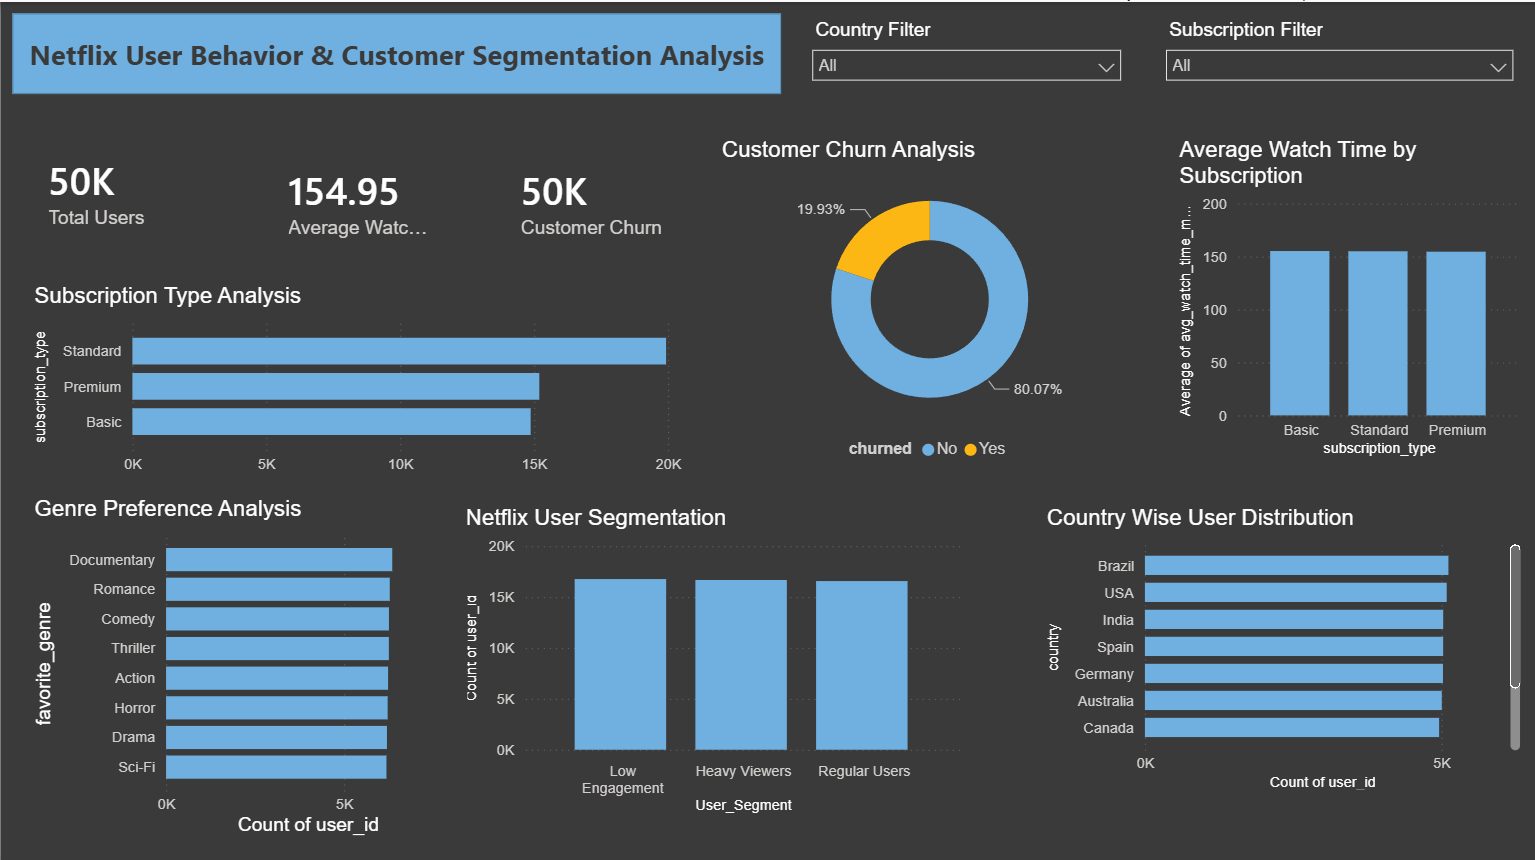

The dashboard page shown, as its layout file describes it:
{"tool":"powerbi","page":{"name":"Page 1","canvas":[1280,720],"ordinal":0},"visuals":[{"type":"cardVisual","fields":{"Data":["CountNonNull(Netflix dashboard final.user_id)"]},"box":[9.8,95.4,189.5,121.1],"z":0},{"type":"cardVisual","fields":{"Data":["Avg(Netflix dashboard final.avg_watch_time_minutes)"]},"box":[209.1,95.4,178.5,138.2],"z":1},{"type":"cardVisual","fields":{"Data":["CountNonNull(Netflix dashboard final.churned)"]},"box":[402.3,95.4,178.5,138.2],"z":2},{"type":"clusteredColumnChart","title":"Netflix User Segmentation","fields":{"Category":["Netflix dashboard final.User_Segment"],"Y":["CountNonNull(Netflix dashboard final.user_id)"]},"box":[381.5,418.2,421.9,261.7],"z":3},{"type":"donutChart","title":"Customer Churn Analysis","fields":{"Category":["Netflix dashboard final.churned"],"Y":["CountNonNull(Netflix dashboard final.user_id)"]},"box":[594.3,112.5,355.8,278.8],"z":4},{"type":"clusteredBarChart","title":"Subscription Type Analysis","fields":{"Category":["Netflix dashboard final.subscription_type"],"Y":["CountNonNull(Netflix dashboard final.user_id)"]},"box":[23.2,233.6,547.8,166.3],"z":5},{"type":"clusteredBarChart","title":"Genre Preference Analysis","fields":{"Category":["Netflix dashboard final.favorite_genre"],"Y":["CountNonNull(Netflix dashboard final.user_id)"]},"box":[23.2,410.9,364.4,287.4],"z":6},{"type":"slicer","fields":{"Values":["Netflix dashboard final.country"]},"box":[664,9.8,277.6,67.3],"z":7},{"type":"slicer","fields":{"Values":["Netflix dashboard final.subscription_type"]},"box":[958.7,9.8,309.4,75.8],"z":8},{"type":"shape","box":[9.8,9.8,639.5,67.3],"z":9},{"type":"clusteredColumnChart","title":"Average Watch Time by Subscription","fields":{"Category":["Netflix dashboard final.subscription_type"],"Y":["Avg(Netflix dashboard final.avg_watch_time_minutes)"]},"box":[974.6,112.5,293.5,270.2],"z":10},{"type":"clusteredBarChart","title":"Country Wise User Distribution","fields":{"Category":["Netflix dashboard final.country"],"Y":["CountNonNull(Netflix dashboard final.user_id)"]},"box":[864.5,418.2,403.5,242.1],"z":11}]}

Visuals, with their boxes in screenshot pixels (x1, y1, x2, y2), scaled from the page's 1280x720 canvas onto the 1535x860 screenshot:
cardVisual - CountNonNull(Netflix dashboard final.user_id): detection(12, 114, 239, 259)
cardVisual - Avg(Netflix dashboard final.avg_watch_time_minutes): detection(251, 114, 465, 279)
cardVisual - CountNonNull(Netflix dashboard final.churned): detection(482, 114, 697, 279)
"Netflix User Segmentation" clusteredColumnChart: detection(458, 500, 963, 812)
"Customer Churn Analysis" donutChart: detection(713, 134, 1139, 467)
"Subscription Type Analysis" clusteredBarChart: detection(28, 279, 685, 478)
"Genre Preference Analysis" clusteredBarChart: detection(28, 491, 465, 834)
slicer - Netflix dashboard final.country: detection(796, 12, 1129, 92)
slicer - Netflix dashboard final.subscription_type: detection(1150, 12, 1521, 102)
shape: detection(12, 12, 779, 92)
"Average Watch Time by Subscription" clusteredColumnChart: detection(1169, 134, 1521, 457)
"Country Wise User Distribution" clusteredBarChart: detection(1037, 500, 1521, 789)
